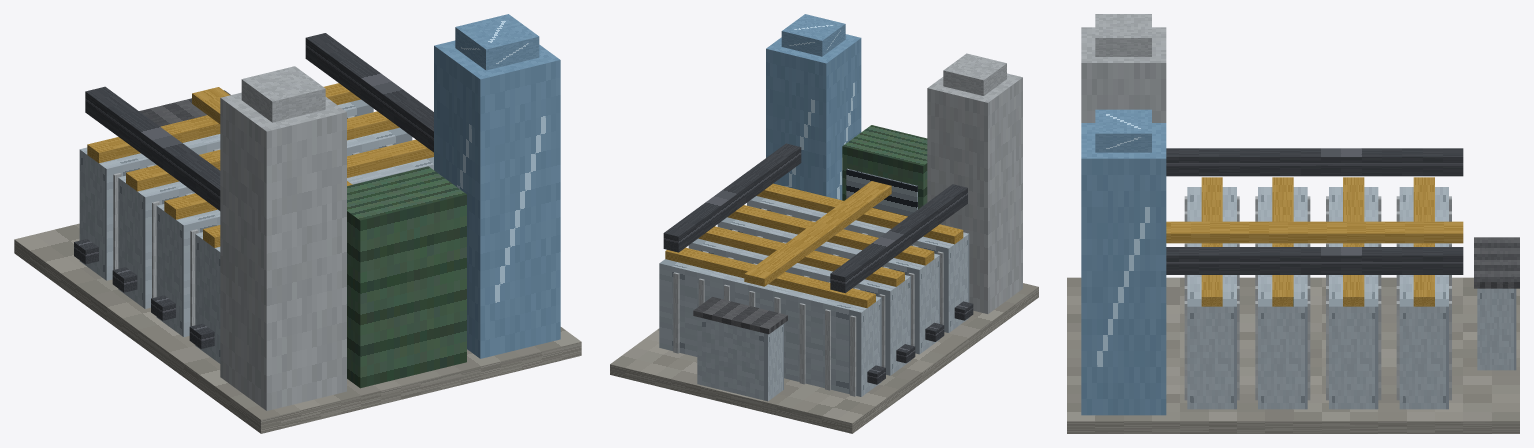
File: electrolyser.obj
3 views of the same model, side by side, from view 1: azimuth 30°, elevation 25°; view 2: azimuth 150°, elevation 25°; view 3: azimuth 270°, elevation 25° (orthographic). The views are drawn at different scales.
Parts seen in each view (by area): view 1: h2_drum, o2_drum, rectifier, floor, h2_main, cells0, cells1, o2_main, cells2, o2_cap, h2_cap, busbar2 (+7 smaller); view 2: h2_drum, floor, cells0, o2_drum, cabinet, rectifier, o2_main, h2_main, cells3, cells1, bus_main, cells2 (+12 smaller); view 3: floor, o2_drum, h2_main, o2_main, cells2, cells3, cells0, cells1, bus_main, h2_drum, cabinet, o2_cap (+10 smaller).
Part boxes in pixels (x1=…): h2_drum: x1=220, y1=92, x2=346, y2=410; o2_drum: x1=434, y1=40, x2=560, y2=358; rectifier: x1=347, y1=166, x2=466, y2=388; floor: x1=14, y1=223, x2=581, y2=433; h2_main: x1=85, y1=86, x2=220, y2=210; cells0: x1=79, y1=99, x2=373, y2=280; cells1: x1=118, y1=127, x2=412, y2=308; o2_main: x1=305, y1=33, x2=433, y2=152; cells2: x1=156, y1=157, x2=433, y2=336; o2_cap: x1=455, y1=14, x2=539, y2=70; h2_cap: x1=241, y1=66, x2=325, y2=122; busbar2: x1=164, y1=139, x2=433, y2=219; h2_drum: x1=927, y1=73, x2=1022, y2=313; floor: x1=610, y1=283, x2=1038, y2=433; cells0: x1=659, y1=259, x2=881, y2=396; o2_drum: x1=766, y1=34, x2=861, y2=200; cabinet: x1=697, y1=317, x2=783, y2=401; rectifier: x1=842, y1=125, x2=927, y2=209; o2_main: x1=663, y1=143, x2=801, y2=252; h2_main: x1=830, y1=184, x2=967, y2=293; cells3: x1=747, y1=196, x2=969, y2=332; cells1: x1=688, y1=238, x2=910, y2=375; bus_main: x1=744, y1=181, x2=891, y2=286; cells2: x1=717, y1=217, x2=939, y2=354; floor: x1=1067, y1=277, x2=1519, y2=433; o2_drum: x1=1081, y1=123, x2=1166, y2=415; h2_main: x1=1166, y1=148, x2=1463, y2=176; o2_main: x1=1166, y1=247, x2=1463, y2=274; cells2: x1=1258, y1=187, x2=1307, y2=409; cells3: x1=1187, y1=187, x2=1236, y2=409; cells0: x1=1399, y1=187, x2=1448, y2=409; cells1: x1=1329, y1=187, x2=1378, y2=409; bus_main: x1=1166, y1=221, x2=1463, y2=243; h2_drum: x1=1081, y1=27, x2=1166, y2=122; cabinet: x1=1477, y1=288, x2=1516, y2=370; o2_cap: x1=1095, y1=109, x2=1151, y2=152.
Bounding box in the file's own units: 3 × 2.81 × 4.
